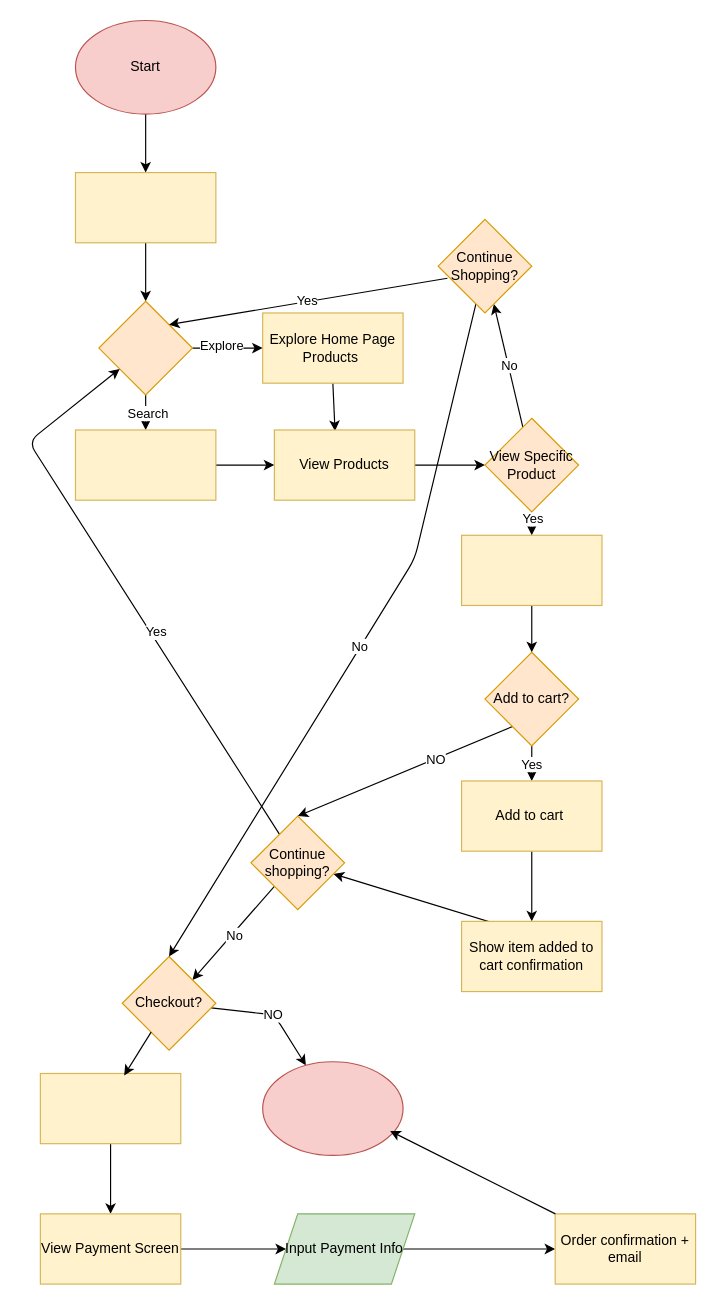
Some shapes in this 716 by 1305 pixel diagram are drawn without their labels. Each missing label, with the centre of its shape:
"Enter Website" belongs at (145,207).
"Leave website" belongs at (332,1108).
"Search Input" belongs at (145,464).
"Search or Explore" belongs at (145,347).
"View Cart" belongs at (110,1108).
"View Product Page" belongs at (531,569).
